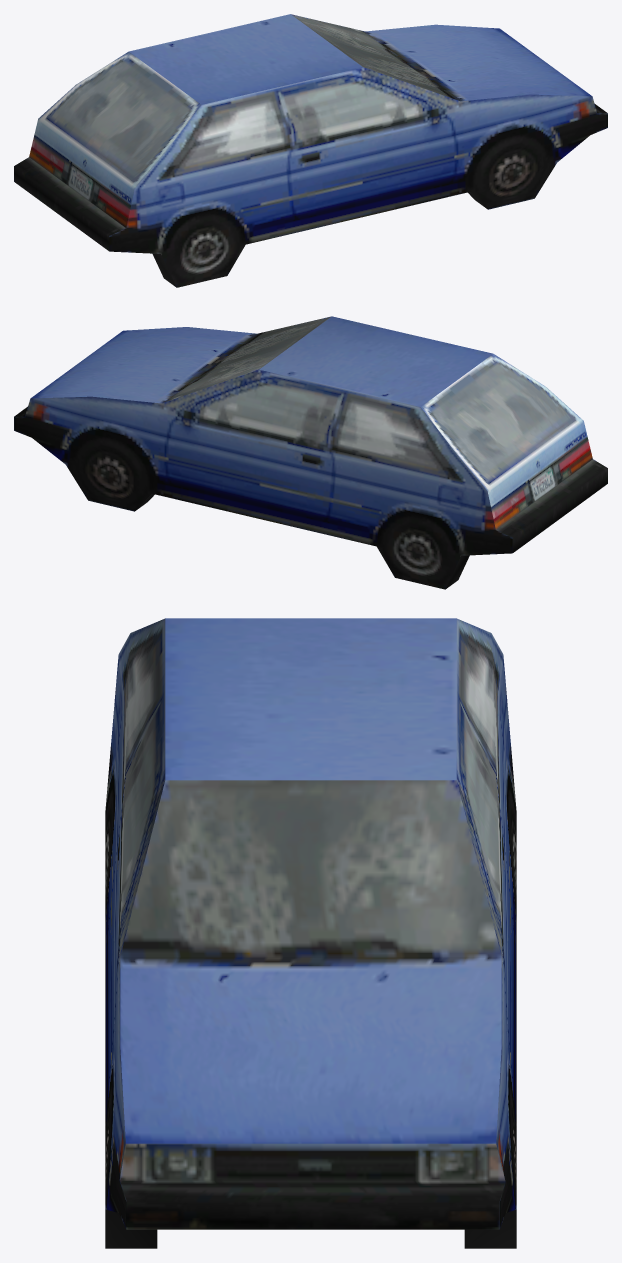
The model's file is Shared - Ground Vehicles - CV Cmp Car BL - CVCmpCarBL.glb.
3 views of the same model, one above another, from view 1: azimuth 30°, elevation 25°; view 2: azimuth 150°, elevation 25°; view 3: azimuth 270°, elevation 25° (orthographic). The views are drawn at different scales.
Parts seen in each view (by area): view 1: CVCMPCARBL; view 2: CVCMPCARBL; view 3: CVCMPCARBL.
Part boxes in pixels (x1,y1,x2,y2): CVCMPCARBL: (14, 14, 607, 287); CVCMPCARBL: (14, 316, 607, 589); CVCMPCARBL: (105, 618, 516, 1248).
Size of the model in its own units: 20.57 by 6.39 by 7.34.
1 material, 1 textured.
